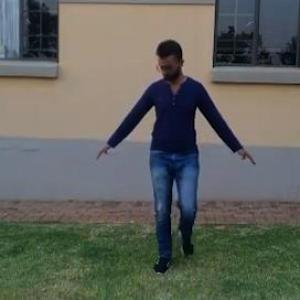land: (72, 26, 255, 260)
